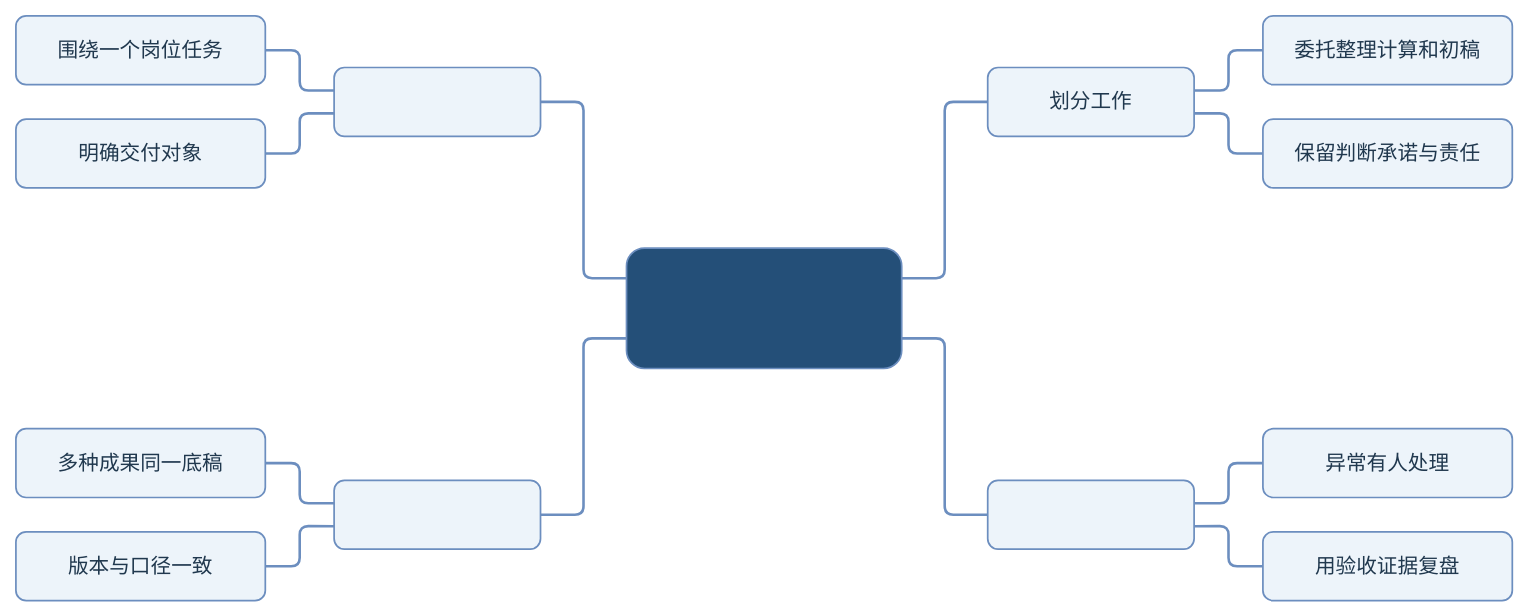
The diagram is 1527 pixels wide and 616 high, and some of its shapes have lost their labels. Here are the shapes that lost their labels. From the top down, the centre of each, then its label:
pixel 437 101: 选择场景
pixel 763 308: 第14章 岗位与业务场景
pixel 437 514: 共享事实
pixel 1090 514: 建立闭环
